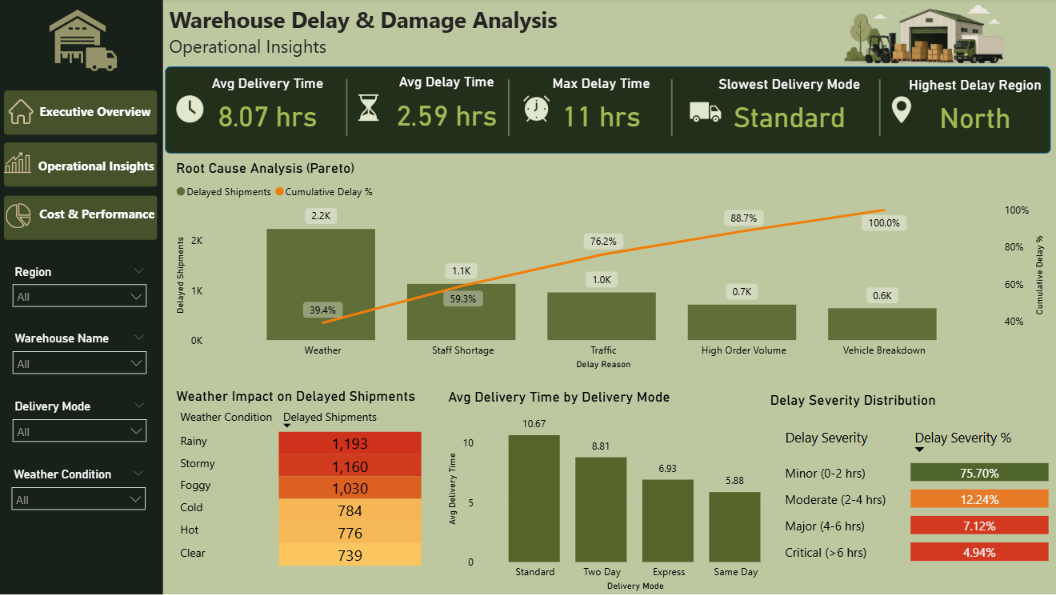

The dashboard page shown, as its layout file describes it:
{"tool":"powerbi","page":{"name":"Operational Insights","canvas":[1280,720],"ordinal":1},"visuals":[{"type":"group","id":"g1","title":"Group 21","box":[2.4,0,199,720.2],"z":0,"group":"g13"},{"type":"shape","box":[2.4,0,199,720.2],"z":0,"group":"g1"},{"type":"textbox","box":[27.9,91.8,135.7,35.9],"z":0},{"type":"group","id":"g2","title":"Group 1","box":[204.2,92,201.3,77],"z":0,"group":"g15"},{"type":"group","id":"g3","title":"Group 17","box":[9.7,173.6,185,53.8],"z":0,"group":"g10"},{"type":"shape","box":[9.7,237.2,185,53.8],"z":0,"group":"g14"},{"type":"shape","box":[204.2,82.2,1068.8,105.2],"z":1000,"group":"g11"},{"type":"group","id":"g4","title":"Group 3","box":[622.7,91.8,205,77],"z":1000,"group":"g15"},{"type":"shape","box":[9.7,111.3,185,53.8],"z":1000,"group":"g8"},{"type":"textbox","box":[17,244.5,179.8,33],"z":1000,"group":"g14"},{"type":"slicer","fields":{"Values":["Fact_Warehouse_Operations.region"]},"box":[9.6,316.1,182.2,68.8],"z":1000,"group":"g1"},{"type":"slicer","fields":{"Values":["Fact_Warehouse_Operations.weather_condition"]},"box":[8.5,561.3,182.2,68.5],"z":1000,"group":"g13"},{"type":"slicer","fields":{"Values":["Fact_Warehouse_Operations.delivery_partner"]},"box":[8.6,561.3,182.2,68.5],"z":1000},{"type":"group","id":"g5","title":"Group 4","box":[823,93.2,240.3,77],"z":2000,"group":"g15"},{"type":"textbox","box":[13.4,121.1,178.5,35.5],"z":2000,"group":"g8"},{"type":"columnChart","fields":{"Category":["Fact_Warehouse_Operations.delivery_mode"],"Y":["Fact_Warehouse_Operations.Avg Delivery Time"]},"box":[540.5,470.8,421.9,249.5],"z":2000},{"type":"slicer","fields":{"Values":["Fact_Warehouse_Operations.delivery_mode"]},"box":[9.6,479,182.2,68.8],"z":2000,"group":"g1"},{"type":"group","id":"g6","title":"Group 2","box":[420.1,90.8,201.3,77],"z":3000,"group":"g15"},{"type":"slicer","fields":{"Values":["Fact_Warehouse_Operations.warehouse_name"]},"box":[9.6,396.9,182.2,68.8],"z":3000,"group":"g1"},{"type":"pivotTable","title":"Weather Impact on Delayed Shipments","fields":{"Rows":["Fact_Warehouse_Operations.weather_condition"],"Values":["Fact_Warehouse_Operations.Delayed Shipments"]},"box":[212.8,469.6,319.2,232.3],"z":3000},{"type":"card","title":"Avg Delivery Time","fields":{"Values":["Fact_Warehouse_Operations.Avg Delivery Time"]},"box":[251.8,92,153.7,77],"z":4000,"group":"g2"},{"type":"group","id":"g7","title":"Group 5","box":[1063.1,94.3,207.4,77],"z":4000,"group":"g15"},{"type":"group","id":"g8","title":"Group 16","box":[9.7,111.3,185,53.8],"z":4000,"group":"g1"},{"type":"lineClusteredColumnComboChart","title":"Root Cause Analysis (Pareto)","fields":{"Category":["Fact_Warehouse_Operations.delay_reason"],"Y":["Fact_Warehouse_Operations.Delayed Shipments"],"Y2":["Fact_Warehouse_Operations.Cumulative Delay %"]},"box":[212.8,194.4,1057.8,258],"z":4000},{"type":"card","title":"Avg Delay Time","fields":{"Values":["Fact_Warehouse_Operations.Avg Delay Time"]},"box":[467.7,90.8,153.7,77],"z":5000,"group":"g6"},{"type":"card","title":"Highest Delay Region","fields":{"Values":["Fact_Warehouse_Operations.Highest Delay Region"]},"box":[1093.6,94.3,176.9,77],"z":5000,"group":"g7"},{"type":"group","id":"g9","title":"Group 6","box":[397,98.1,695.4,68.5],"z":5000,"group":"g15"},{"type":"group","id":"g10","title":"Group 19","box":[9.7,173.6,185,53.8],"z":5000,"group":"g1"},{"type":"tableEx","title":"Delay Severity Distribution","fields":{"Values":["Fact_Warehouse_Operations.Delay Severity","Fact_Warehouse_Operations.Delay Severity %"]},"box":[941.6,511.1,338.7,190.8],"z":5000},{"type":"group","id":"g11","title":"Group 8","box":[204.2,82.2,1068.8,105.2],"z":6000},{"type":"card","title":"Max Delay Time","fields":{"Values":["Fact_Warehouse_Operations.Max Delay Time"]},"box":[633.7,91.8,194,77],"z":6000,"group":"g4"},{"type":"group","id":"g12","title":"Group 20","box":[9.7,237.2,187.1,53.8],"z":6000,"group":"g1"},{"type":"image","box":[45.8,2.4,115.8,94.1],"z":7000,"group":"g1"},{"type":"textbox","box":[929.4,469.6,269,41.6],"z":7000},{"type":"group","id":"g13","title":"Group 9","box":[2.4,0,199,720.2],"z":8000},{"type":"card","title":"Slowest Delivery Mode","fields":{"Values":["Fact_Warehouse_Operations.Slowest Delivery Mode"]},"box":[852.3,93.2,211.1,77],"z":8000,"group":"g5"},{"type":"shape","box":[397,98.1,52.5,68.5],"z":8000,"group":"g9"},{"type":"image","box":[957.5,0,322.8,91.7],"z":9000},{"type":"shape","box":[592.2,98.1,52.5,68.5],"z":9000,"group":"g9"},{"type":"image","box":[1063.1,113.9,58.6,41.6],"z":9000,"group":"g7"},{"type":"textbox","box":[204.2,2.4,613.9,97.8],"z":10000},{"type":"shape","box":[788.6,98.1,52.5,68.5],"z":10000,"group":"g9"},{"type":"shape","box":[9.7,173.6,185,53.8],"z":11000,"group":"g3"},{"type":"image","box":[2.4,173.7,47.1,49.5],"z":11000},{"type":"shape","box":[1040,98.1,52.5,68.5],"z":12000,"group":"g9"},{"type":"textbox","box":[15.8,184.6,178.5,35.5],"z":12000,"group":"g3"},{"type":"image","box":[7.3,242.1,39.1,39.1],"z":12000},{"type":"actionButton","box":[14,118.2,181,41],"z":12001,"group":"g1"},{"type":"actionButton","box":[9.8,240.9,182.2,40.4],"z":13000},{"type":"image","box":[204.2,112.8,59.9,42.8],"z":14000,"group":"g2"},{"type":"actionButton","box":[7.2,178.6,181,49.5],"z":14000},{"type":"image","box":[420.1,111.6,58.6,41.6],"z":15000,"group":"g6"},{"type":"actionButton","box":[7.3,178.5,181,40.4],"z":15000},{"type":"group","id":"g14","title":"Group 18","box":[9.7,237.2,187.1,53.8],"z":15000,"group":"g12"},{"type":"actionButton","box":[6,179.8,181,41],"z":16000},{"type":"textbox","box":[45.8,187,166.5,36.2],"z":17000},{"type":"group","id":"g15","title":"Group 7","box":[204.2,90.8,1066.3,80.5],"z":17002,"group":"g11"},{"type":"image","box":[9.7,117.4,40.4,39.1],"z":17005,"group":"g8"},{"type":"image","box":[622.7,112.6,58.6,41.6],"z":18001,"group":"g4"},{"type":"image","box":[823,114,65.9,47.7],"z":18002,"group":"g5"}]}

Visuals, with their boxes in screenshot pixels (x1, y1, x2, y2), scaled from the page's 1280x720 canvas onto the 1056x595 screenshot:
"Group 21" group: l=2, t=0, r=166, b=594
shape: l=2, t=0, r=166, b=594
textbox: l=23, t=76, r=135, b=106
"Group 1" group: l=168, t=76, r=335, b=140
"Group 17" group: l=8, t=143, r=161, b=188
shape: l=8, t=196, r=161, b=240
shape: l=168, t=68, r=1050, b=155
"Group 3" group: l=514, t=76, r=683, b=139
shape: l=8, t=92, r=161, b=136
textbox: l=14, t=202, r=162, b=229
slicer - Fact_Warehouse_Operations.region: l=8, t=261, r=158, b=318
slicer - Fact_Warehouse_Operations.weather_condition: l=7, t=464, r=157, b=520
slicer - Fact_Warehouse_Operations.delivery_partner: l=7, t=464, r=157, b=520
"Group 4" group: l=679, t=77, r=877, b=141
textbox: l=11, t=100, r=158, b=129
columnChart - Fact_Warehouse_Operations.delivery_mode x Fact_Warehouse_Operations.Avg Delivery Time: l=446, t=389, r=794, b=594
slicer - Fact_Warehouse_Operations.delivery_mode: l=8, t=396, r=158, b=453
"Group 2" group: l=347, t=75, r=513, b=139
slicer - Fact_Warehouse_Operations.warehouse_name: l=8, t=328, r=158, b=385
"Weather Impact on Delayed Shipments" pivotTable: l=176, t=388, r=439, b=580
"Avg Delivery Time" card: l=208, t=76, r=335, b=140
"Group 5" group: l=877, t=78, r=1048, b=142
"Group 16" group: l=8, t=92, r=161, b=136
"Root Cause Analysis (Pareto)" lineClusteredColumnComboChart: l=176, t=161, r=1048, b=374
"Avg Delay Time" card: l=386, t=75, r=513, b=139
"Highest Delay Region" card: l=902, t=78, r=1048, b=142
"Group 6" group: l=328, t=81, r=901, b=138
"Group 19" group: l=8, t=143, r=161, b=188
"Delay Severity Distribution" tableEx: l=777, t=422, r=1055, b=580
"Group 8" group: l=168, t=68, r=1050, b=155
"Max Delay Time" card: l=523, t=76, r=683, b=139
"Group 20" group: l=8, t=196, r=162, b=240
image: l=38, t=2, r=133, b=80
textbox: l=767, t=388, r=989, b=422
"Group 9" group: l=2, t=0, r=166, b=594
"Slowest Delivery Mode" card: l=703, t=77, r=877, b=141
shape: l=328, t=81, r=371, b=138
image: l=790, t=0, r=1055, b=76
shape: l=489, t=81, r=532, b=138
image: l=877, t=94, r=925, b=129
textbox: l=168, t=2, r=675, b=83
shape: l=651, t=81, r=694, b=138
shape: l=8, t=143, r=161, b=188
image: l=2, t=144, r=41, b=184
shape: l=858, t=81, r=901, b=138
textbox: l=13, t=153, r=160, b=182
image: l=6, t=200, r=38, b=232
actionButton: l=12, t=98, r=161, b=132
actionButton: l=8, t=199, r=158, b=232
image: l=168, t=93, r=218, b=129
actionButton: l=6, t=148, r=155, b=188
image: l=347, t=92, r=395, b=127
actionButton: l=6, t=148, r=155, b=181
"Group 18" group: l=8, t=196, r=162, b=240
actionButton: l=5, t=149, r=154, b=182
textbox: l=38, t=155, r=175, b=184
"Group 7" group: l=168, t=75, r=1048, b=142
image: l=8, t=97, r=41, b=129
image: l=514, t=93, r=562, b=127
image: l=679, t=94, r=733, b=134
